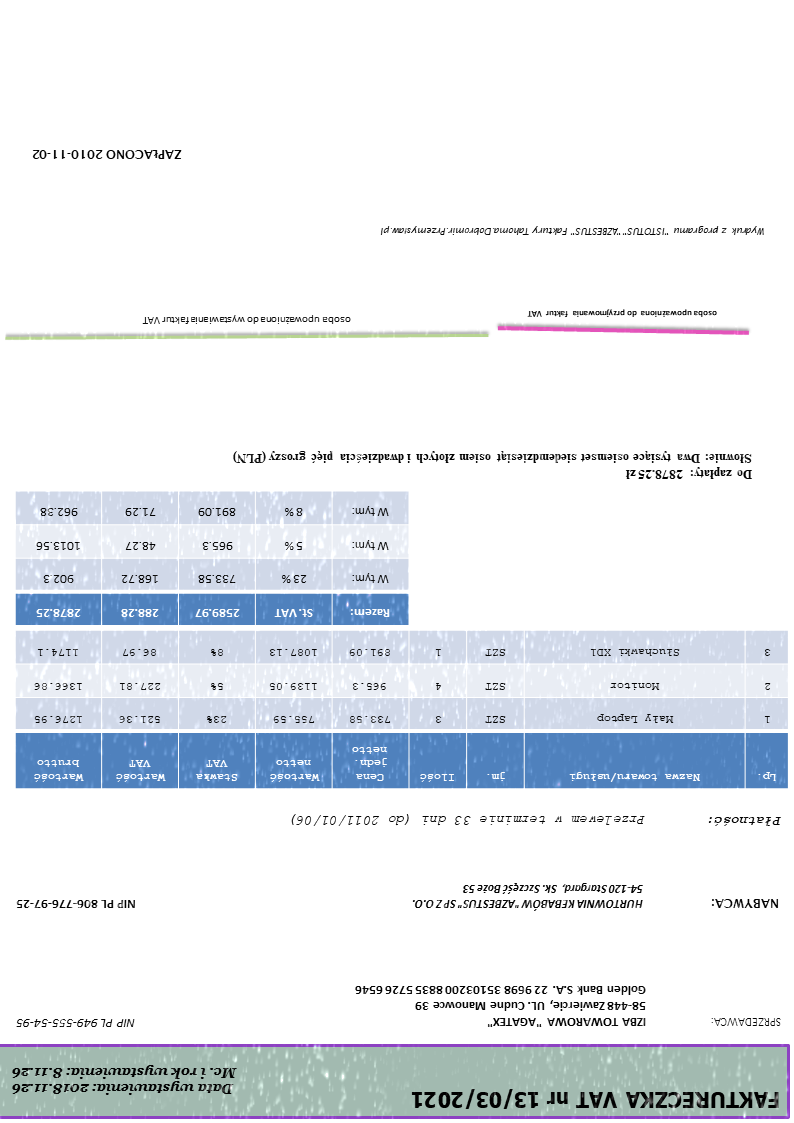Table: (14, 628, 790, 791), (15, 490, 410, 626)
TextBox: (230, 448, 755, 483), (353, 982, 649, 1030), (410, 1086, 783, 1112), (11, 1063, 241, 1098), (410, 882, 645, 911), (378, 223, 767, 239), (288, 811, 646, 828), (142, 313, 354, 327), (527, 307, 720, 321), (32, 147, 185, 164), (16, 897, 139, 911), (15, 1016, 137, 1030), (706, 813, 783, 830), (710, 1014, 783, 1031), (711, 896, 782, 912)
